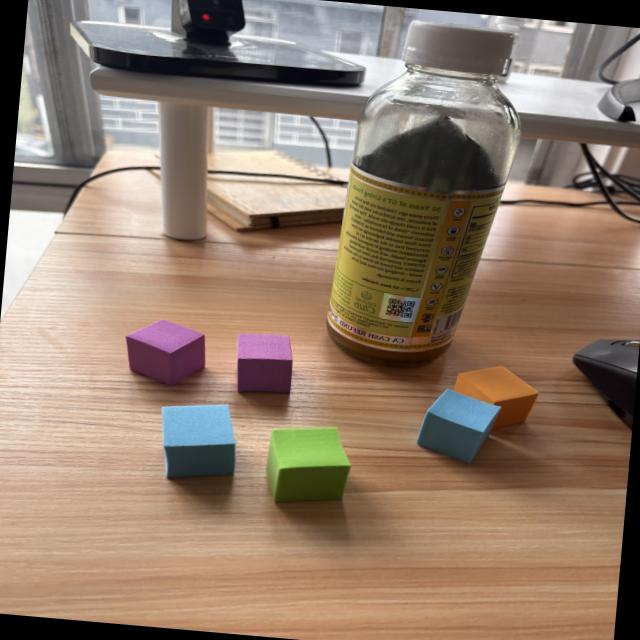bluecube: (416, 387, 500, 462), (161, 403, 234, 477)
greencube: (265, 426, 349, 501)
orangecube: (452, 364, 537, 423)
purplecube: (125, 318, 204, 384), (236, 332, 291, 392)
